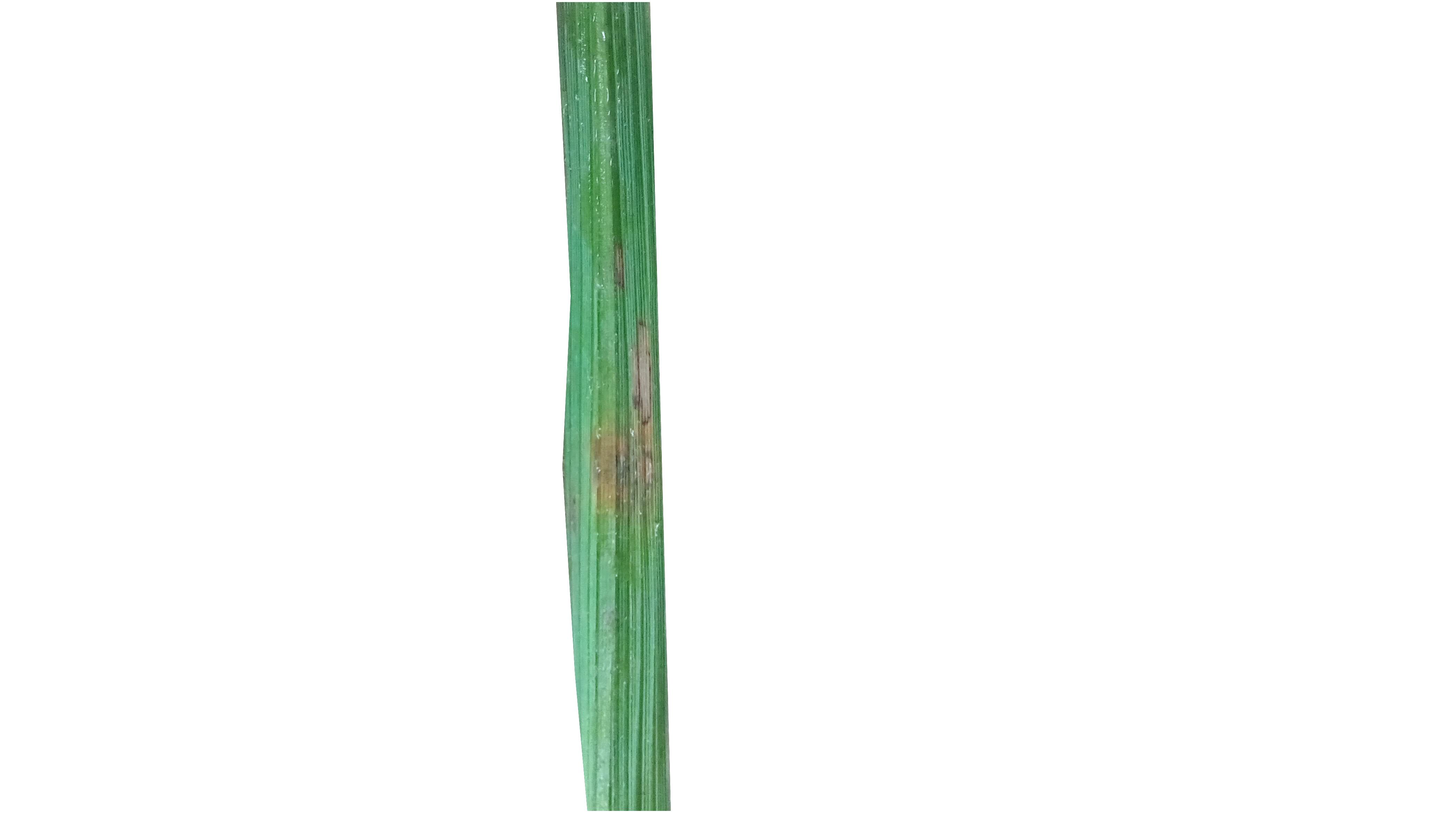Rice blast: (605, 299, 660, 525)
